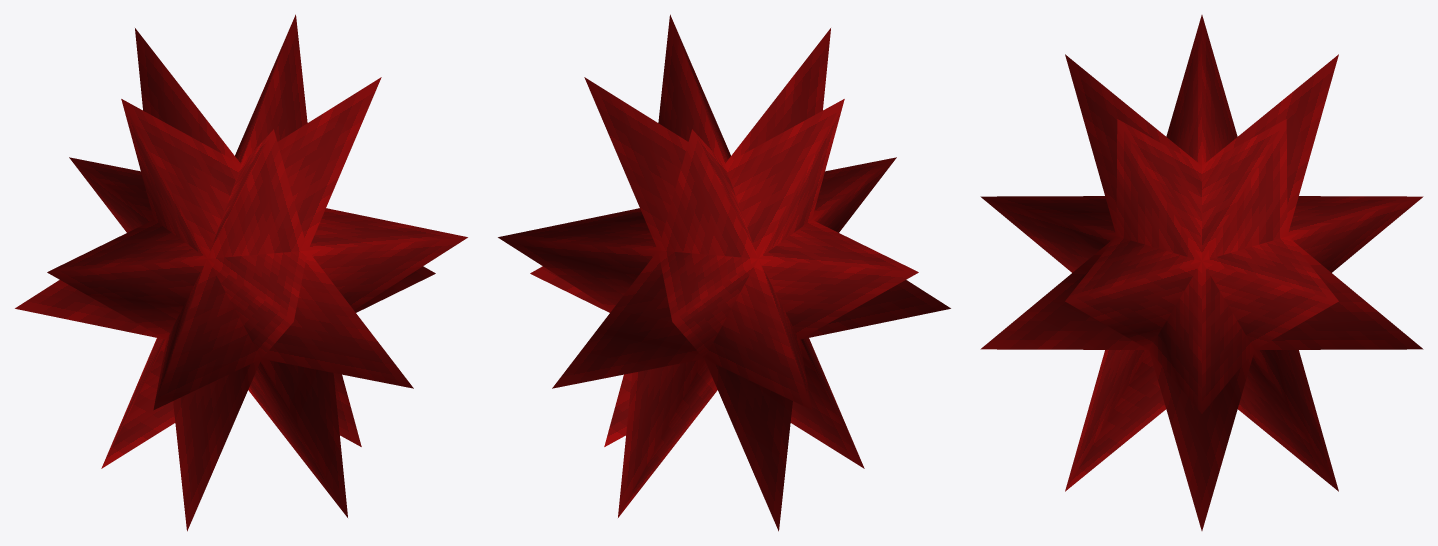
The model's file is blood.fbx.
3 renders of one model, left to right at view 1: azimuth 30°, elevation 25°; view 2: azimuth 150°, elevation 25°; view 3: azimuth 270°, elevation 25°, orthographic.
Visible parts, largest first — view 1: Sphere; view 2: Sphere; view 3: Sphere.
Boxes of the visible parts, box(x1,y1,x2,y2) form: Sphere: box(15, 14, 467, 531); Sphere: box(498, 14, 950, 531); Sphere: box(980, 15, 1423, 530).
Bounding box in the file's own units: 2 × 2 × 2.
Materials: 1 (1 with a texture image).
